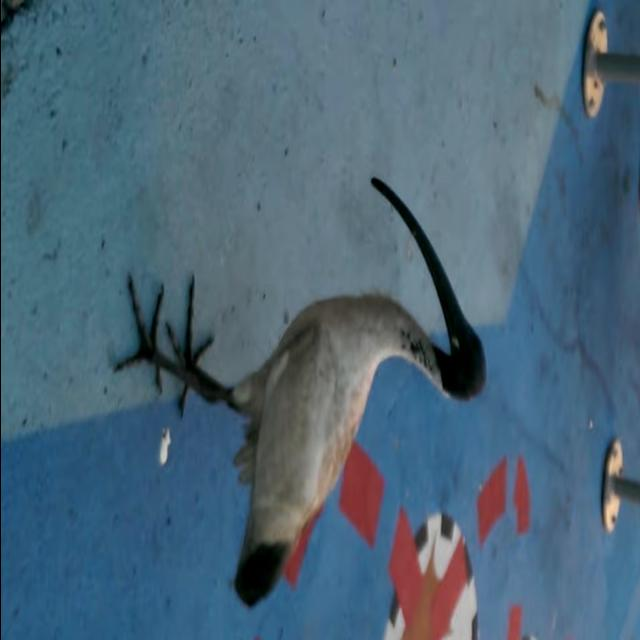Birds-Ibis: (107, 168, 491, 616)
